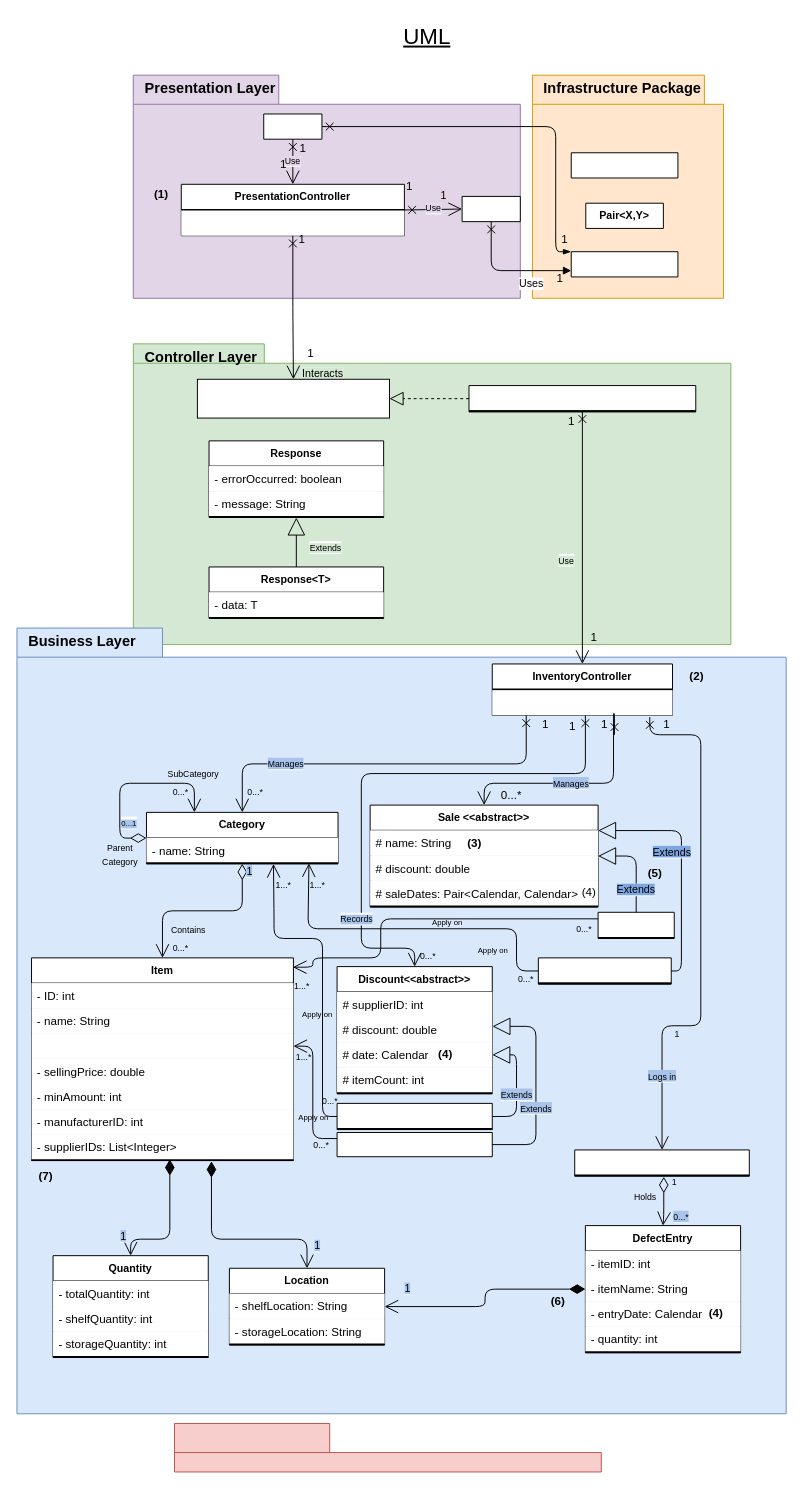
Image size: 803x1489. Some labels were removed from this diagram. Each missing label, with the centre of its shape:
- BASE_CATEGORY: Category: the point at 582,702
- costPrice: double: the point at 162,1045
- terminate: boolean: the point at 292,222
CategoryDiscount: the point at 414,1116
CategorySale: the point at 604,970
Data Access Layer: the point at 387,1447
DefectsLogger: the point at 661,1162
InventoryServiceImpl: the point at 582,398
ItemDiscount: the point at 414,1144
ItemSale: the point at 635,924
Main: the point at 292,126
Menu: the point at 490,208
SystemLogger: the point at 624,264
TextFormatter: the point at 624,165
«interface» InventoryService: the point at 292,398
